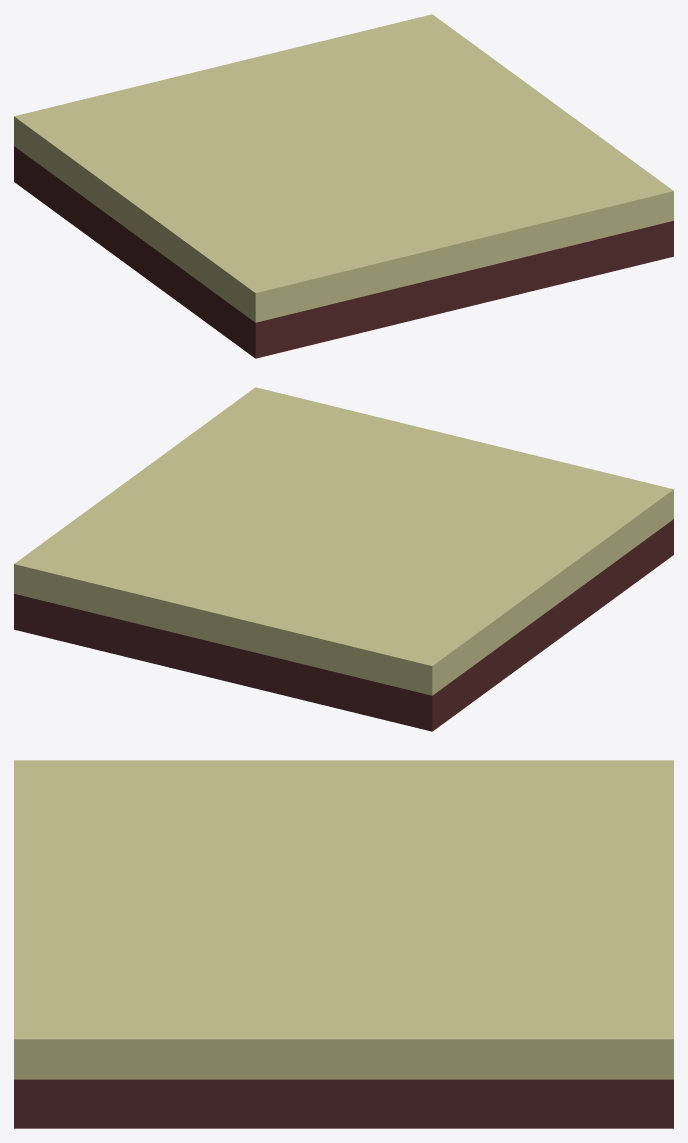
The model's file is ceiling.fbx.
3 views of the same model, one above another, from view 1: azimuth 30°, elevation 25°; view 2: azimuth 150°, elevation 25°; view 3: azimuth 270°, elevation 25° (orthographic). The views are drawn at different scales.
Parts seen in each view (by area): view 1: ceiling; view 2: ceiling; view 3: ceiling.
Boxes of the visible parts, x1,y1,x2,y2 form: ceiling: [14, 14, 673, 358]; ceiling: [14, 387, 673, 731]; ceiling: [14, 760, 673, 1128].
Size of the model in its own units: 16.72 by 2.5 by 16.72.
